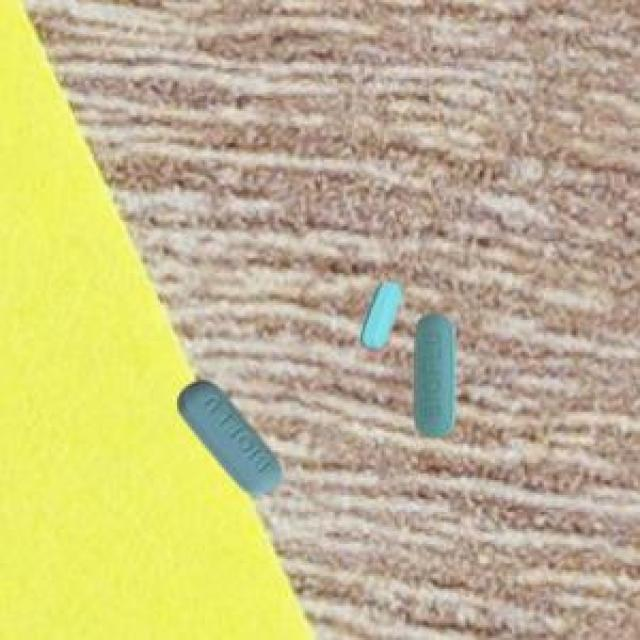Bioflu: (163, 362, 297, 513), (409, 305, 459, 447), (354, 266, 404, 360)
